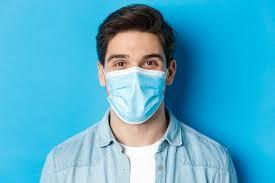mask: (103, 67, 175, 129)
